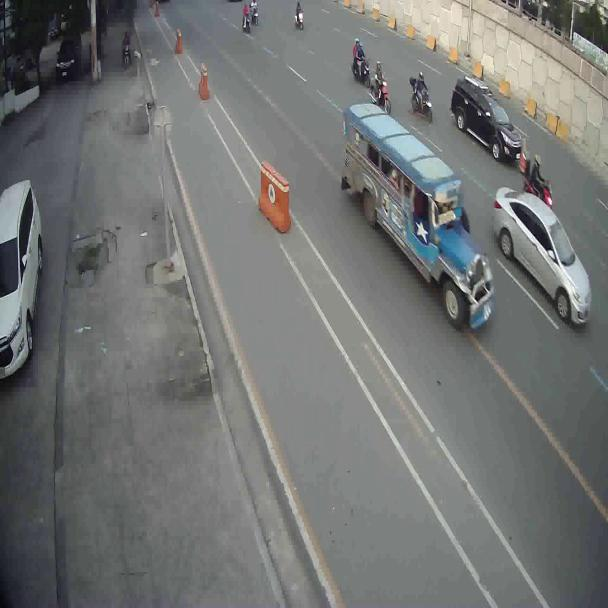motorcyclist: (522, 152, 558, 207), (405, 70, 438, 126), (368, 59, 390, 114), (350, 38, 370, 82), (239, 2, 258, 32)
vehicle: (341, 100, 492, 336), (485, 188, 596, 330), (0, 170, 41, 400), (450, 79, 525, 165)
